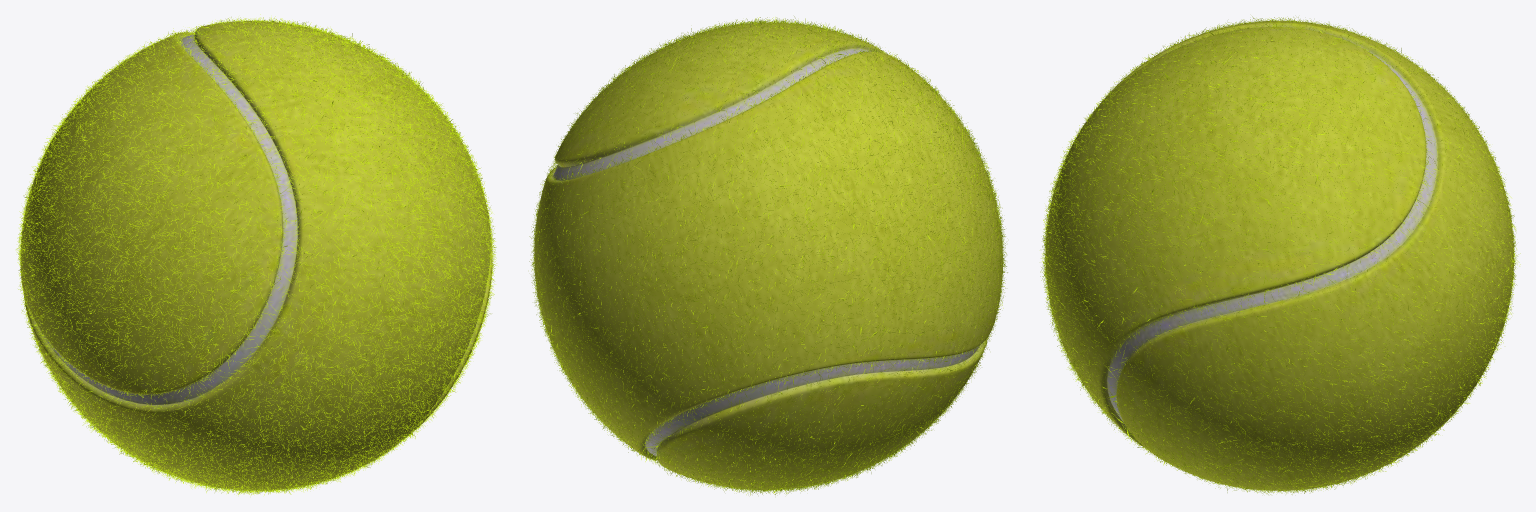
File: final_tennis_ball_2_short.glb
The picture shows the model from 3 angles, left to right: view 1: azimuth 30°, elevation 25°; view 2: azimuth 150°, elevation 25°; view 3: azimuth 270°, elevation 25°; orthographic projection.
Parts seen in each view (by area): view 1: Object_2; view 2: Object_2; view 3: Object_2.
Part boxes in pixels (left/top/right/bottom): Object_2: left=16, top=14, right=496, bottom=495; Object_2: left=529, top=16, right=1007, bottom=495; Object_2: left=1040, top=16, right=1520, bottom=494.
Size of the model in its own units: 0.0668 by 0.067 by 0.067.
2 materials, 1 textured.
